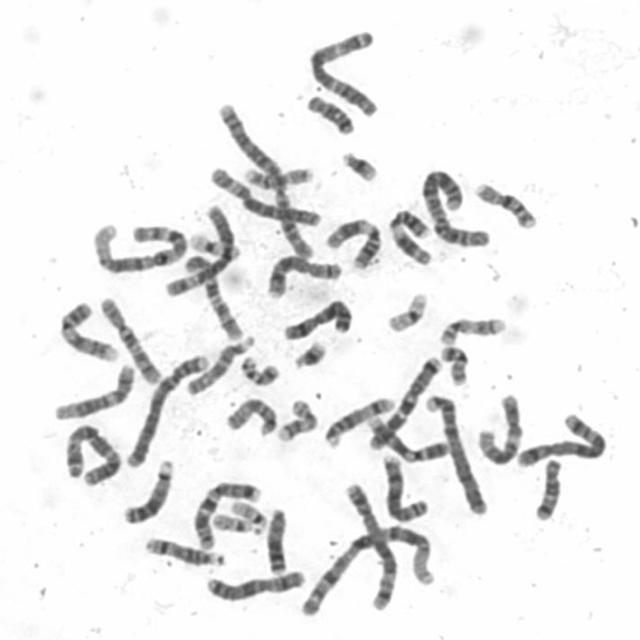A1: (296, 521, 438, 619), (88, 219, 190, 275)
A2: (212, 99, 316, 260), (418, 167, 490, 248)
A3: (304, 27, 381, 118), (60, 420, 123, 487)
B4: (123, 350, 210, 469), (421, 391, 490, 516)
B5: (342, 478, 399, 614), (513, 408, 609, 468)
C10: (98, 294, 162, 386), (182, 250, 246, 342)
C11: (322, 214, 383, 270), (387, 206, 434, 268)
C12: (50, 360, 136, 422), (476, 395, 524, 467)
C6: (205, 162, 323, 230), (163, 203, 237, 299)
C7: (364, 352, 443, 452), (189, 476, 262, 552)
C8: (262, 253, 345, 300), (378, 451, 428, 524)
C9: (364, 412, 450, 464), (56, 296, 120, 362)
D13: (120, 456, 176, 525), (263, 506, 289, 575)
D14: (320, 393, 396, 449), (142, 534, 226, 568)
D15: (182, 331, 258, 396), (222, 394, 278, 438)
E16: (471, 178, 538, 230), (242, 165, 316, 192)
E17: (436, 313, 508, 346), (273, 397, 319, 444)
E18: (304, 92, 355, 135), (531, 456, 564, 522)
F19: (382, 288, 430, 334), (187, 230, 237, 257)
F20: (238, 353, 281, 389), (437, 342, 470, 386)
G21: (338, 148, 381, 184), (290, 337, 331, 372)
G22: (227, 496, 267, 535), (209, 510, 262, 535)
X: (202, 567, 306, 603), (280, 296, 354, 343)
